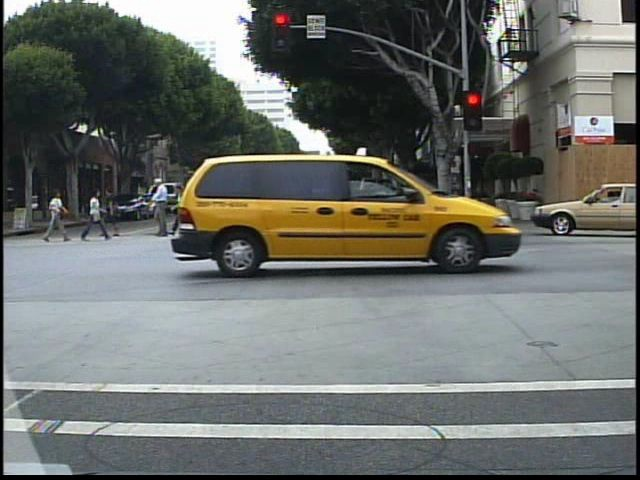person: (293, 168, 320, 238), (78, 187, 110, 245), (149, 172, 174, 241), (39, 189, 69, 246), (225, 180, 252, 238), (174, 184, 197, 238), (102, 185, 124, 240)
